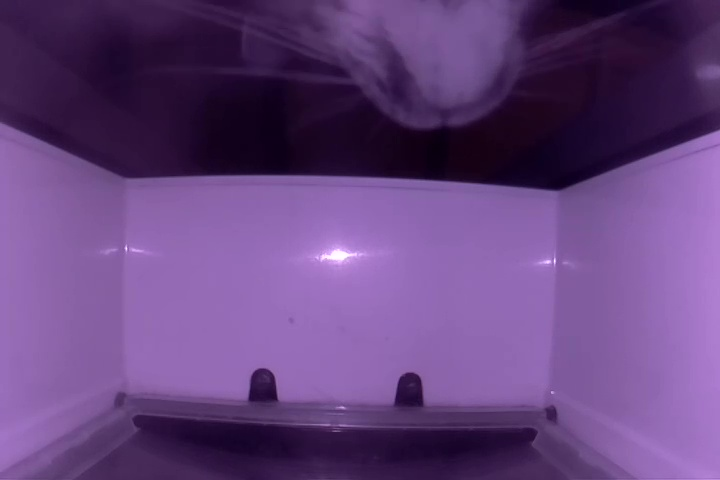Snout: (376, 28, 517, 130)
